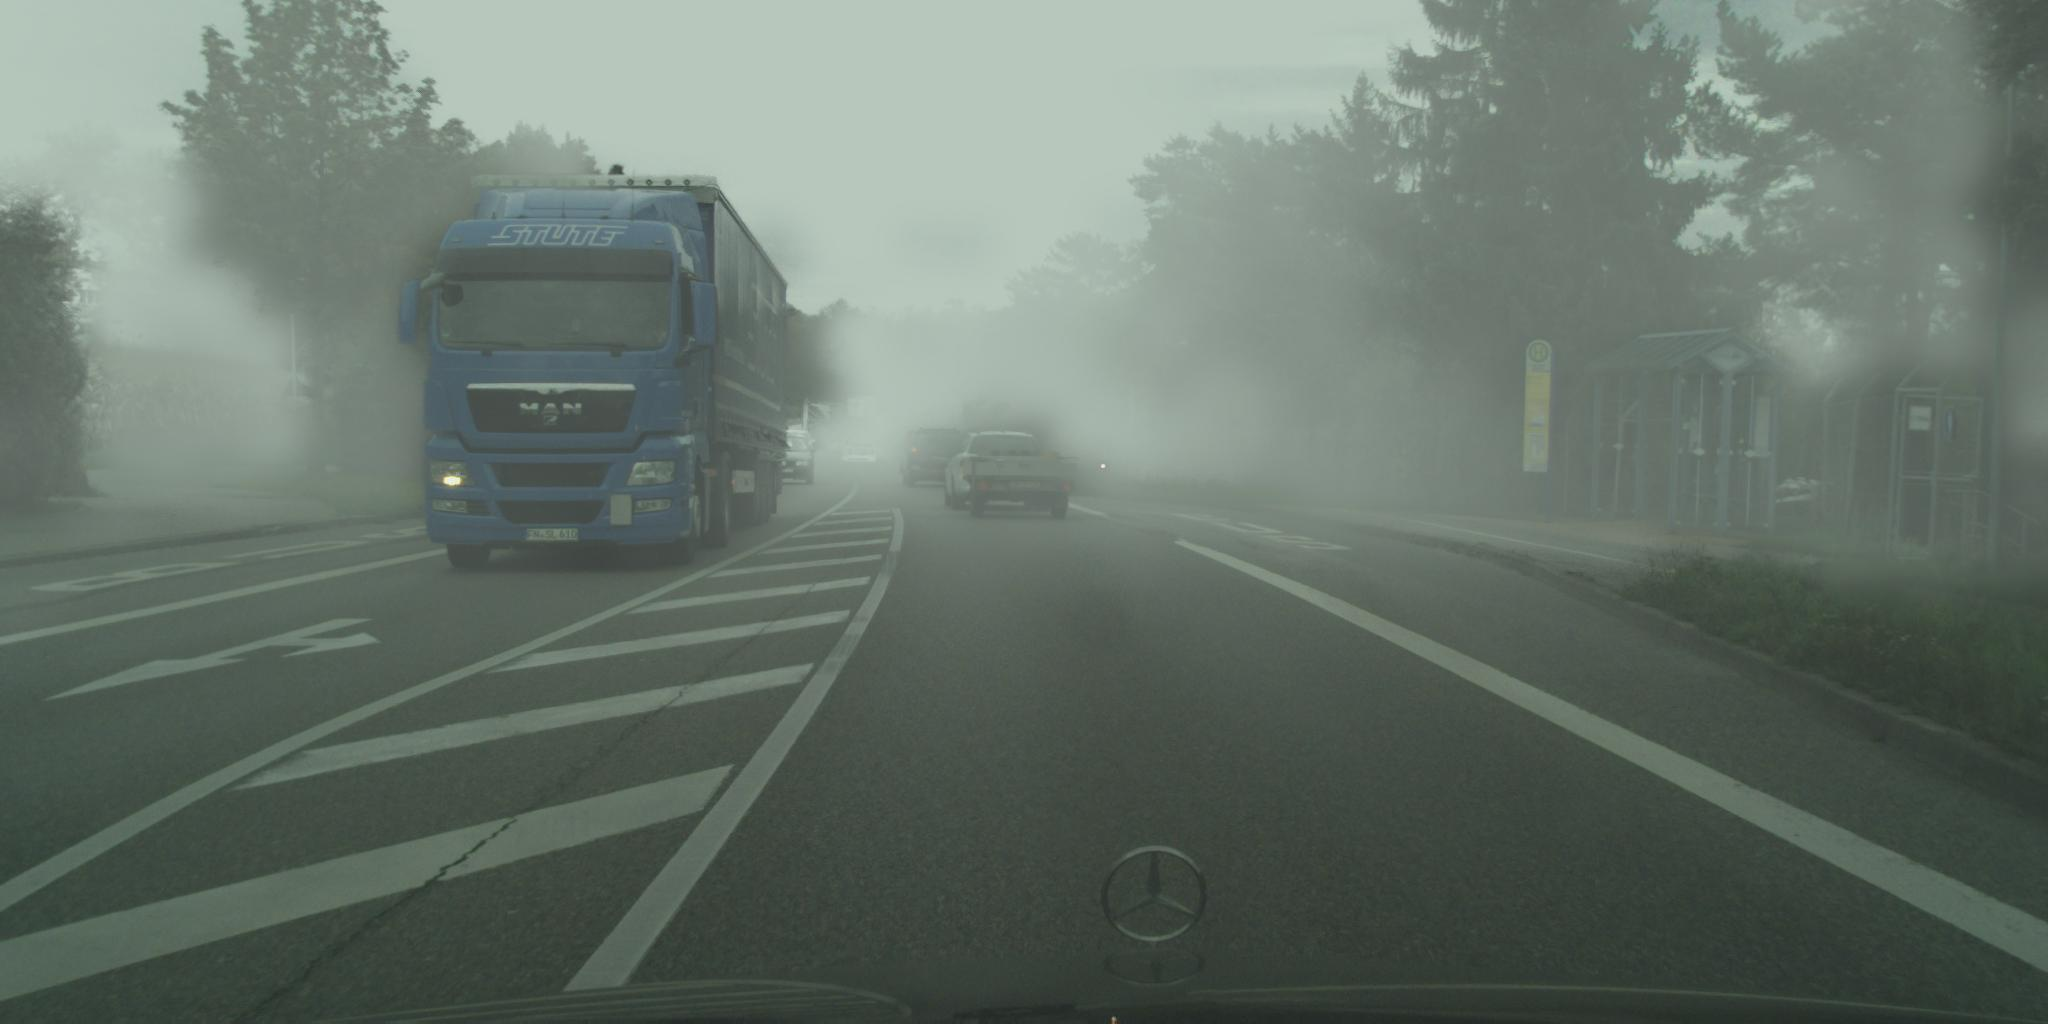car: (943, 428, 1050, 512), (903, 428, 967, 490), (777, 434, 820, 485), (900, 431, 931, 475), (782, 430, 818, 458), (842, 435, 878, 462)
truck: (398, 175, 789, 572), (801, 398, 842, 451), (811, 402, 846, 436), (846, 396, 879, 426)
